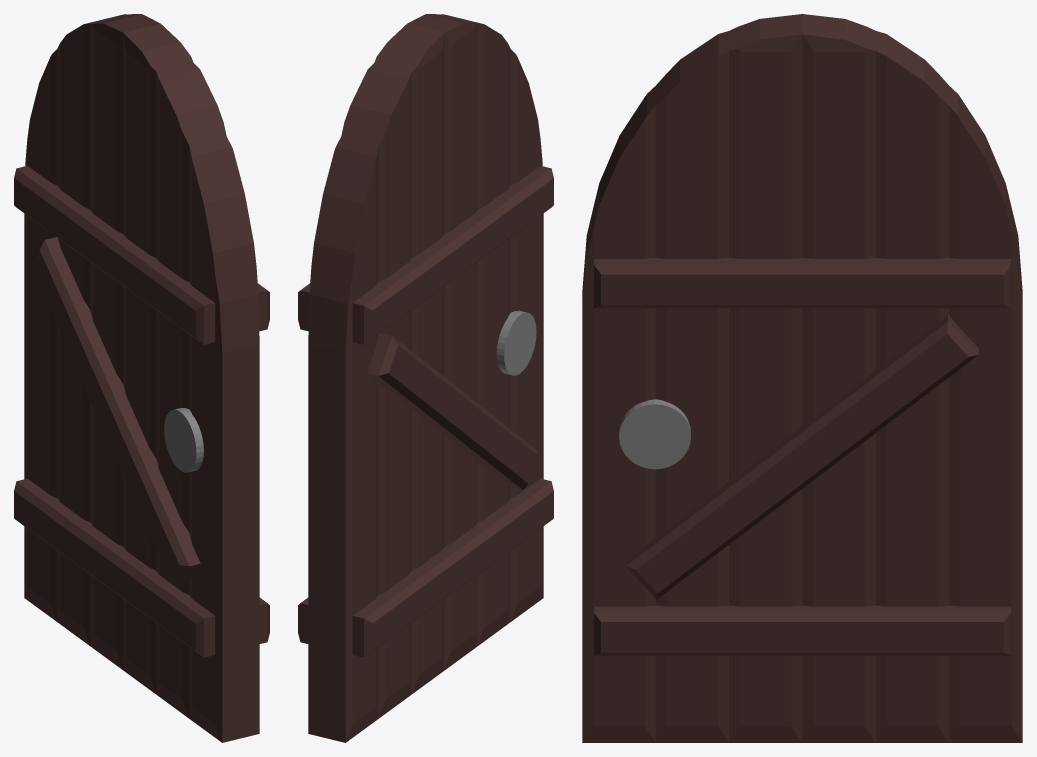
The model's file is door.fbx.
3 renders of one model, left to right at view 1: azimuth 30°, elevation 25°; view 2: azimuth 150°, elevation 25°; view 3: azimuth 270°, elevation 25°, orthographic. The views are drawn at different scales.
Visible parts, largest first — view 1: Cube; view 2: Cube; view 3: Cube.
Boxes of the visible parts, left/top/right/bottom form: Cube: left=14, top=14, right=269, bottom=742; Cube: left=298, top=14, right=553, bottom=742; Cube: left=582, top=14, right=1022, bottom=742.
Size of the model in its own units: 40 by 326 by 184.
